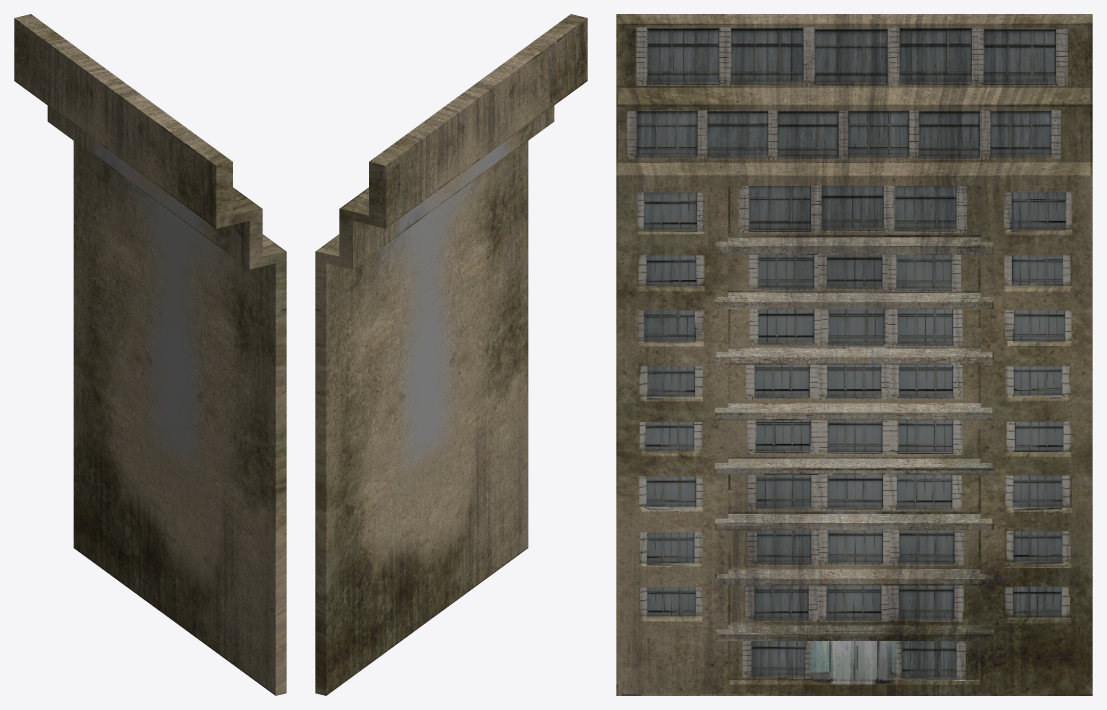
File: building08.fbx
The picture shows the model from 3 angles, left to right: view 1: azimuth 30°, elevation 25°; view 2: azimuth 150°, elevation 25°; view 3: azimuth 270°, elevation 25°; orthographic projection. The views are drawn at different scales.
Visible parts, largest first — view 1: building08; view 2: building08; view 3: building08.
Part boxes in pixels (x1,y1,x2,y2): building08: [14, 14, 286, 695]; building08: [315, 14, 587, 695]; building08: [616, 14, 1092, 695].
Bounding box in the file's own units: 4.13 × 27.1 × 18.23.
1 material, 1 textured.
